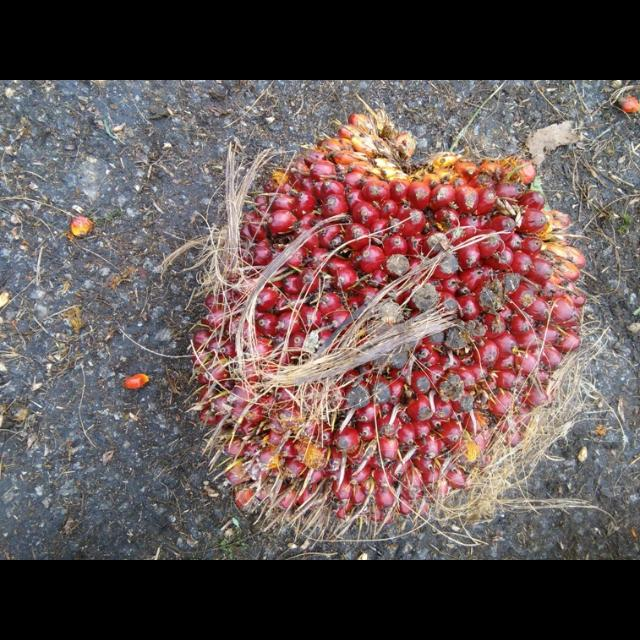Ripe: (189, 99, 592, 534)
